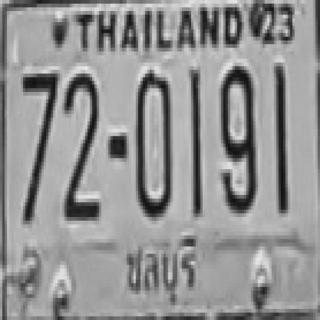N00: (135, 66, 171, 213)
N01: (273, 62, 287, 210), (274, 61, 286, 211), (190, 66, 202, 213), (189, 66, 200, 210)
N02: (61, 70, 98, 217)
N07: (21, 70, 58, 221), (21, 68, 58, 178)
N09: (219, 62, 255, 210)
P13: (122, 233, 200, 307)
